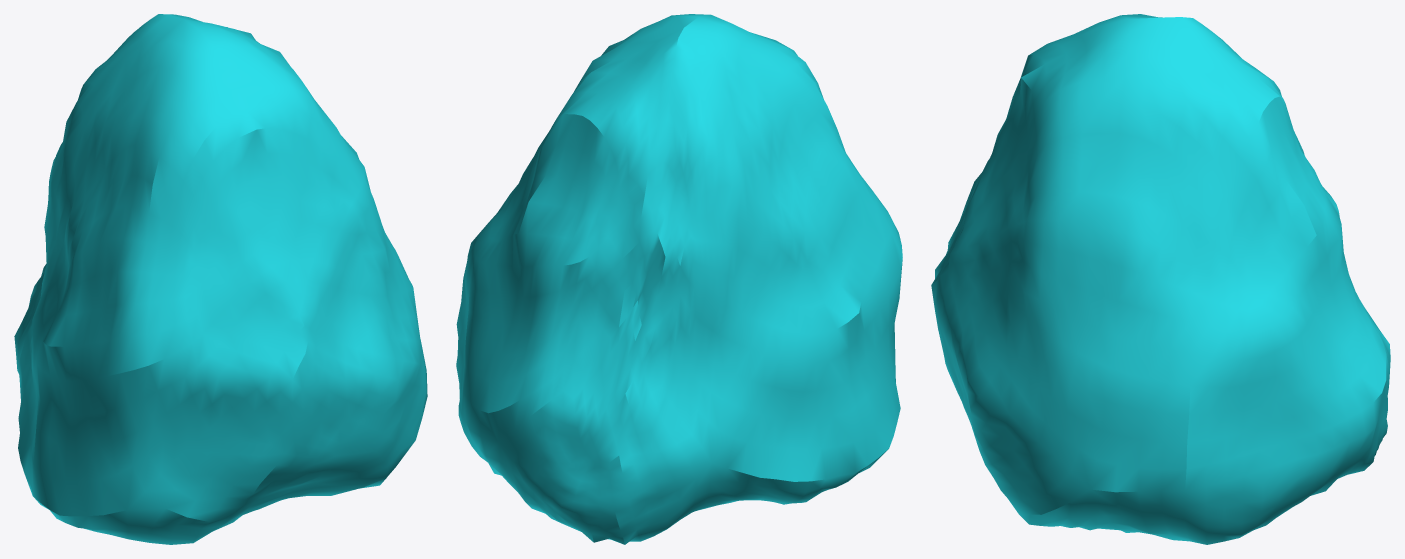
The model's file is IceBlock.fbx.
The picture shows the model from 3 angles, left to right: view 1: azimuth 30°, elevation 25°; view 2: azimuth 150°, elevation 25°; view 3: azimuth 270°, elevation 25°; orthographic projection. The views are drawn at different scales.
Visible parts, largest first — view 1: rock; view 2: rock; view 3: rock.
Part boxes in pixels (x1=…): rock: x1=14, y1=14, x2=427, y2=544; rock: x1=456, y1=14, x2=902, y2=544; rock: x1=931, y1=14, x2=1390, y2=544.
Size of the model in its own units: 4963 by 5756 by 5145.
